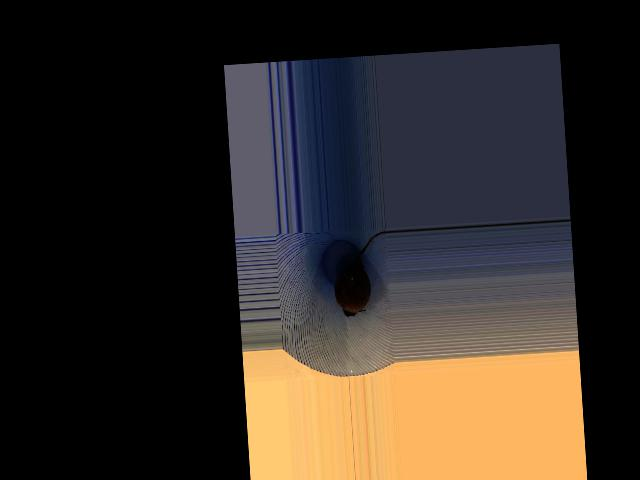beet: (331, 231, 392, 317)
